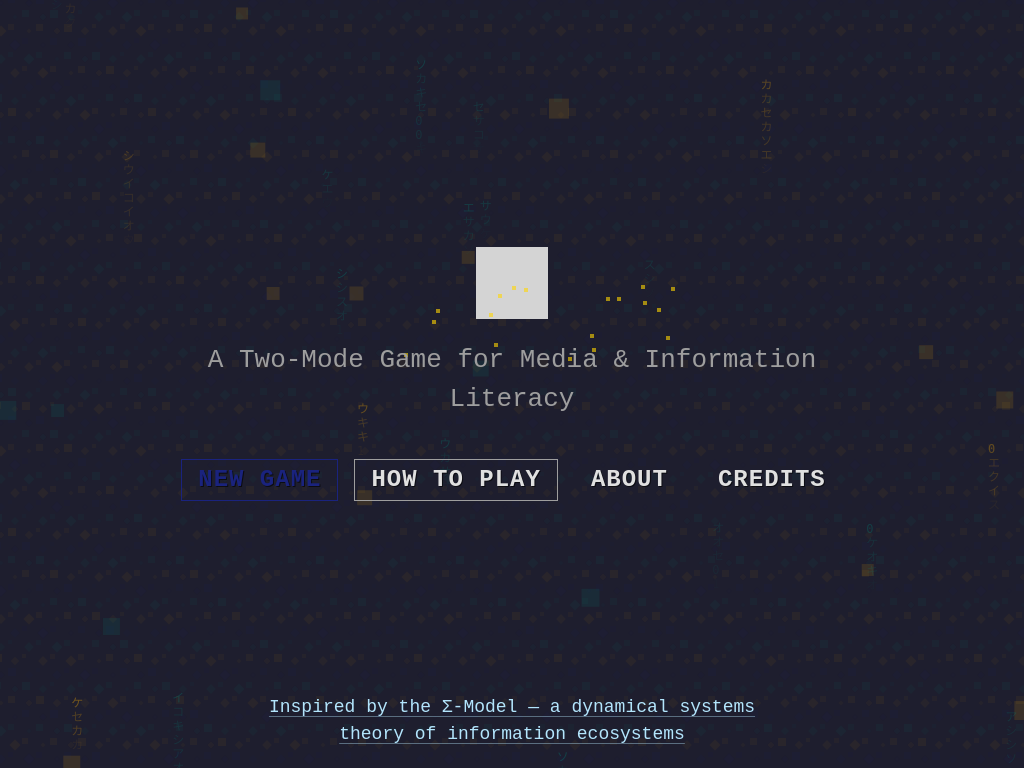
Test case: TitleScreen › opens About modal on About click
Click the button "About" at (629, 480), box [574,459,685,501]
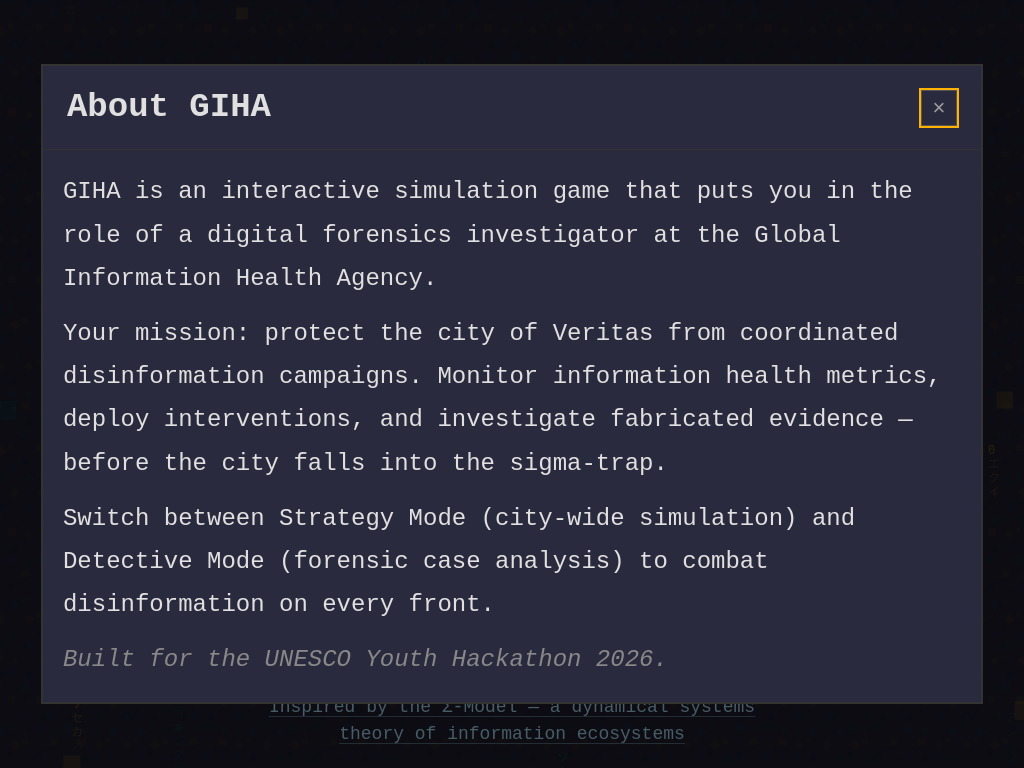
Check: the heading "About GIHA" is shown, box [67,82,271,134]
